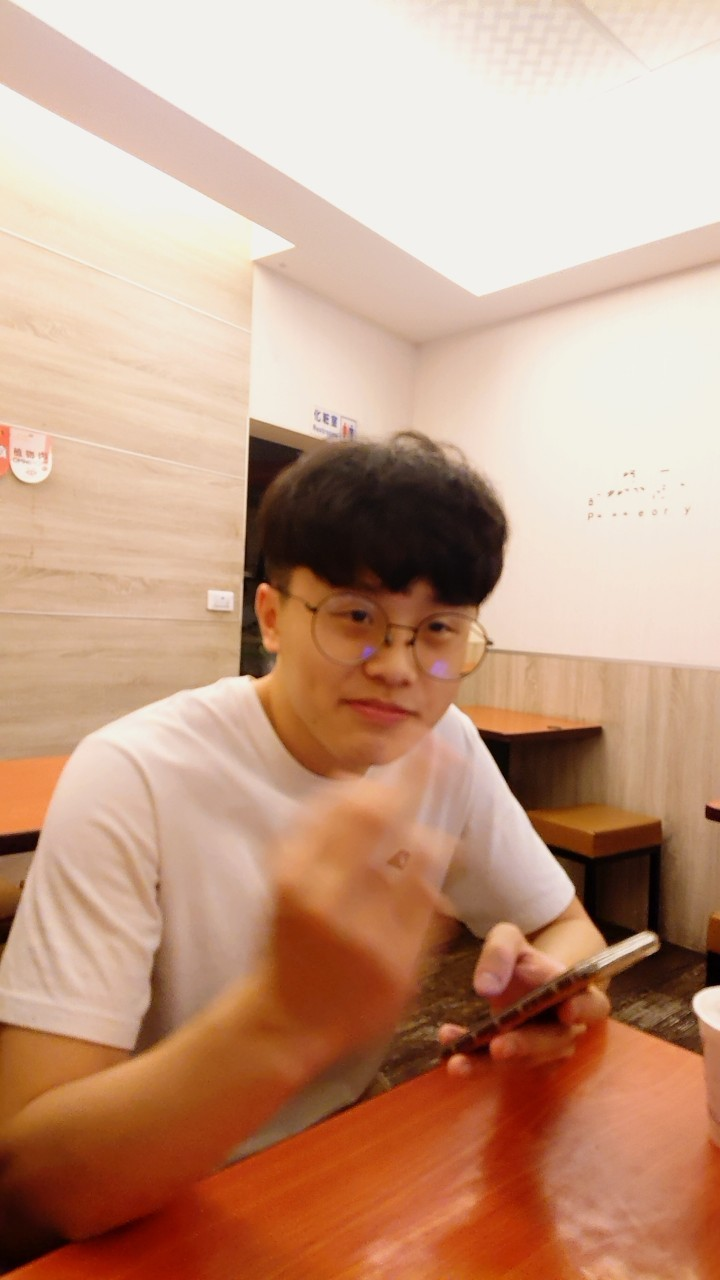people: (177, 449, 518, 1135)
